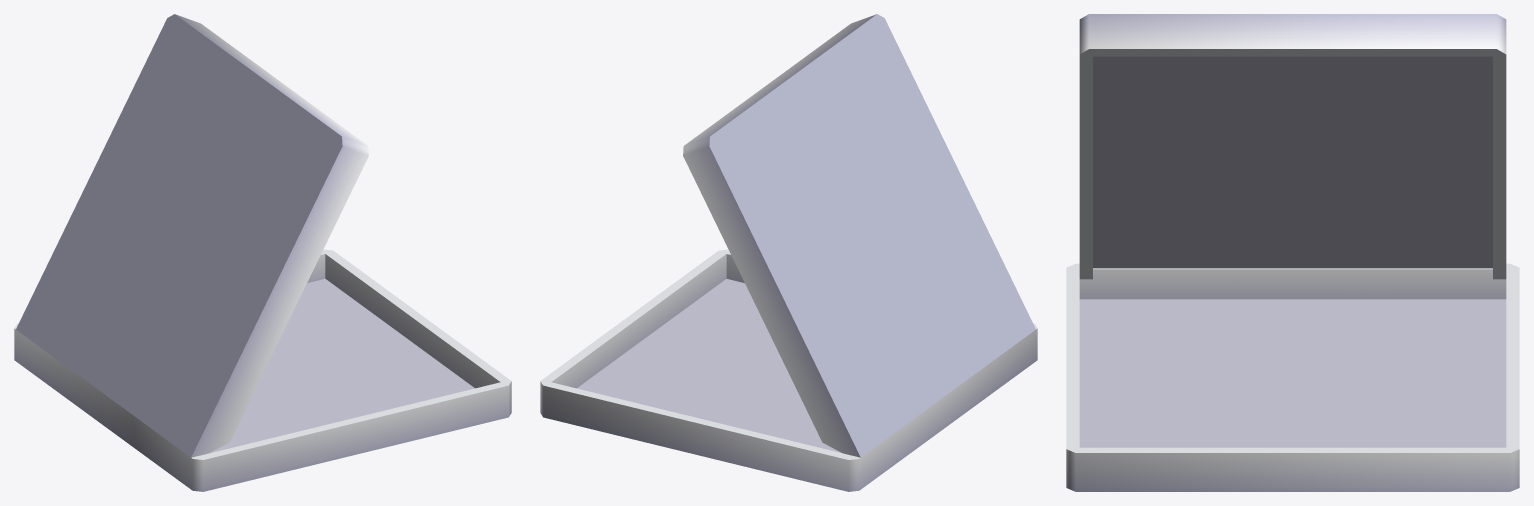
File: kenney-food-pizza-box.glb
3 renders of one model, left to right at view 1: azimuth 30°, elevation 25°; view 2: azimuth 150°, elevation 25°; view 3: azimuth 270°, elevation 25°, orthographic. The views are drawn at different scales.
Parts seen in each view (by area): view 1: pizza-box; view 2: pizza-box; view 3: pizza-box.
Part boxes in pixels (x1,y1,x2,y2): pizza-box: [14, 14, 511, 491]; pizza-box: [540, 14, 1037, 491]; pizza-box: [1066, 14, 1519, 491].
Bounding box in the file's own units: 0.9418 × 0.8816 × 0.9518.
Materials: 1 (1 with a texture image).
